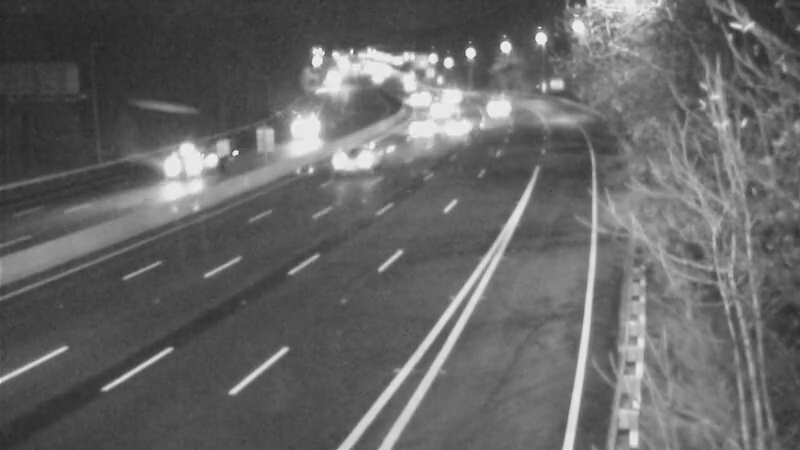vehicle: (307, 122, 387, 202), (134, 128, 214, 208), (427, 71, 477, 121), (395, 75, 445, 125), (467, 86, 517, 136), (415, 83, 465, 133), (436, 100, 486, 150), (393, 106, 443, 156), (268, 112, 318, 162)
